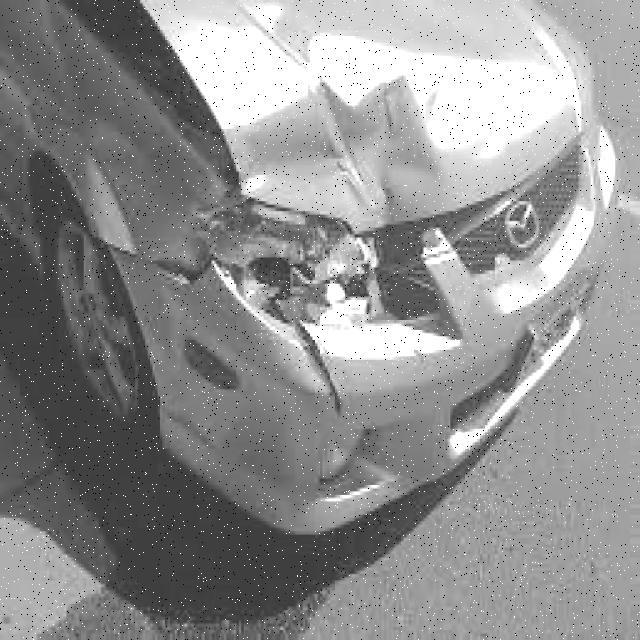car damage: (72, 2, 516, 423)
